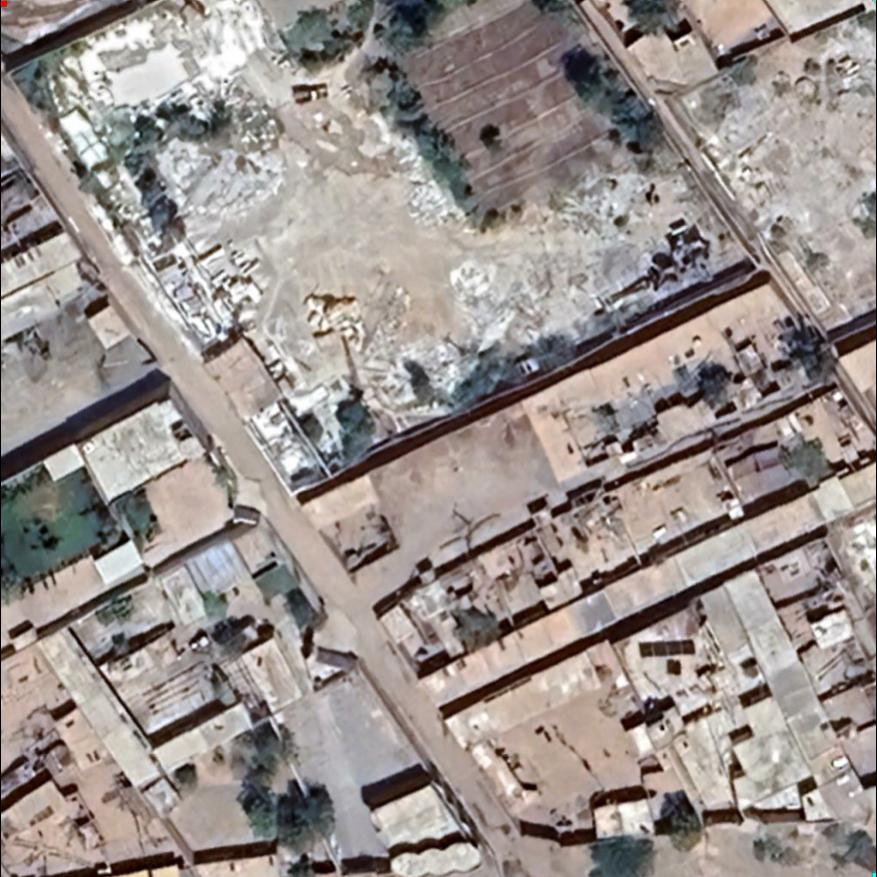Solarpanel: (635, 637, 703, 659), (663, 659, 683, 676)
